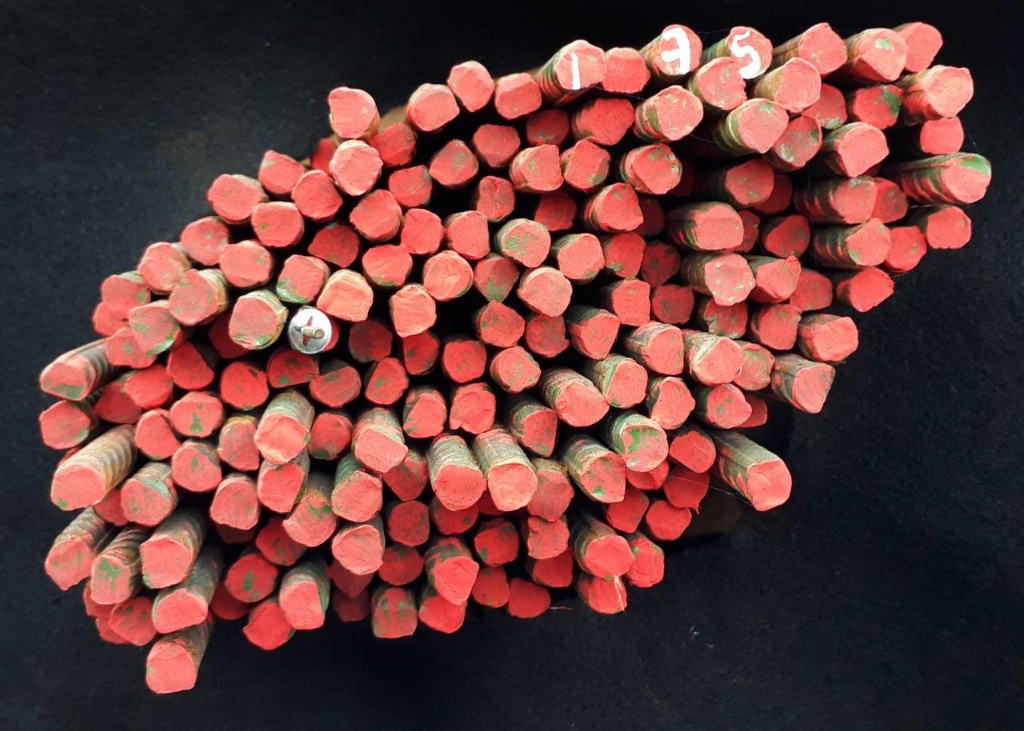dipstick: (82, 582, 135, 647), (169, 268, 219, 325), (738, 98, 788, 154), (229, 298, 283, 349), (129, 305, 183, 356), (655, 85, 704, 141), (703, 255, 756, 306), (554, 40, 608, 90), (255, 414, 310, 463), (632, 143, 683, 195), (137, 241, 189, 292), (139, 537, 191, 588), (330, 146, 383, 196), (50, 464, 106, 511), (38, 400, 91, 449), (328, 85, 376, 139), (777, 56, 822, 113), (332, 525, 383, 575), (145, 643, 195, 694), (45, 539, 97, 588), (774, 114, 822, 167), (281, 498, 334, 546), (725, 24, 772, 78), (250, 201, 304, 248), (429, 556, 479, 606), (210, 480, 260, 530), (698, 57, 746, 109), (110, 593, 158, 645), (527, 471, 574, 524), (219, 241, 273, 287), (354, 428, 409, 473), (924, 67, 974, 116), (562, 140, 611, 190), (332, 473, 382, 522), (859, 30, 907, 81), (121, 478, 172, 526), (218, 363, 270, 410), (556, 381, 609, 427), (254, 518, 308, 563), (841, 128, 889, 178), (293, 172, 343, 220), (448, 63, 495, 114), (99, 275, 151, 321), (155, 588, 207, 634), (941, 154, 990, 202), (595, 183, 643, 232), (488, 463, 537, 511), (800, 23, 847, 73), (258, 463, 305, 513), (900, 22, 945, 74), (747, 459, 792, 511), (433, 465, 485, 510), (392, 285, 437, 337), (307, 222, 359, 267), (225, 558, 278, 602), (502, 222, 551, 269), (277, 253, 324, 302), (650, 379, 695, 430), (103, 327, 157, 369), (479, 299, 526, 347), (123, 363, 173, 408), (319, 280, 373, 321), (180, 219, 229, 264), (845, 217, 889, 267), (725, 161, 775, 205), (580, 452, 624, 502), (410, 89, 460, 133), (362, 245, 413, 288), (853, 85, 905, 127), (219, 418, 260, 471), (696, 337, 742, 384), (473, 255, 519, 302), (619, 426, 667, 471), (429, 140, 477, 185), (279, 581, 324, 629), (166, 345, 214, 390), (601, 50, 650, 94), (603, 359, 647, 408), (585, 536, 635, 579), (522, 273, 572, 316), (399, 209, 445, 255), (764, 213, 811, 258), (706, 384, 753, 429), (423, 255, 470, 300), (135, 413, 180, 460), (587, 99, 635, 143), (557, 236, 605, 280), (88, 555, 131, 604), (310, 365, 360, 407), (812, 316, 857, 362), (449, 388, 495, 433), (259, 149, 305, 194), (306, 413, 349, 461), (641, 327, 684, 374), (289, 305, 332, 352), (206, 313, 249, 360), (246, 605, 293, 648), (802, 83, 847, 127), (756, 256, 801, 300), (384, 455, 428, 500), (663, 465, 709, 508), (520, 144, 562, 191), (795, 365, 835, 414), (927, 207, 972, 250), (604, 234, 647, 279), (473, 125, 518, 168), (580, 313, 621, 360), (419, 594, 467, 634), (612, 278, 651, 327), (497, 349, 541, 392), (758, 305, 800, 350), (475, 523, 520, 565), (365, 359, 407, 404), (669, 431, 715, 472), (39, 361, 87, 400), (850, 268, 893, 311), (606, 491, 649, 534), (527, 313, 569, 357), (451, 211, 489, 259), (444, 339, 486, 382), (371, 123, 414, 165), (732, 344, 772, 389), (506, 578, 552, 617), (378, 546, 425, 584), (269, 351, 317, 388), (403, 395, 445, 437), (389, 164, 431, 206), (349, 321, 392, 362), (327, 561, 372, 600), (95, 383, 140, 422), (646, 501, 692, 539), (477, 174, 515, 220), (921, 115, 963, 156), (532, 547, 575, 587), (497, 81, 541, 120), (837, 179, 875, 224), (389, 501, 428, 544), (887, 225, 924, 270), (870, 180, 907, 225), (696, 214, 742, 250), (171, 401, 218, 436), (527, 520, 569, 559), (526, 106, 568, 145), (789, 272, 832, 310), (628, 543, 665, 587), (403, 331, 439, 376), (522, 410, 557, 456), (651, 284, 692, 323), (473, 565, 509, 608), (588, 575, 627, 614), (640, 246, 680, 284), (433, 501, 479, 534), (372, 605, 418, 638), (535, 193, 576, 230), (755, 172, 790, 213), (211, 584, 249, 621), (333, 590, 374, 622), (635, 196, 665, 238), (93, 489, 128, 523), (91, 302, 124, 336), (627, 461, 667, 488), (215, 521, 259, 545), (736, 210, 761, 252), (738, 394, 768, 428), (314, 136, 339, 175), (480, 486, 507, 515)
